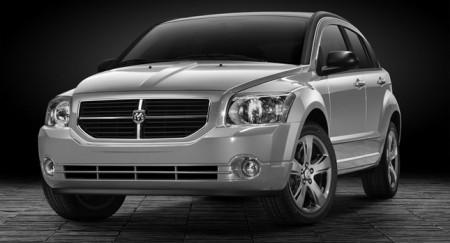car: (37, 11, 409, 229)
